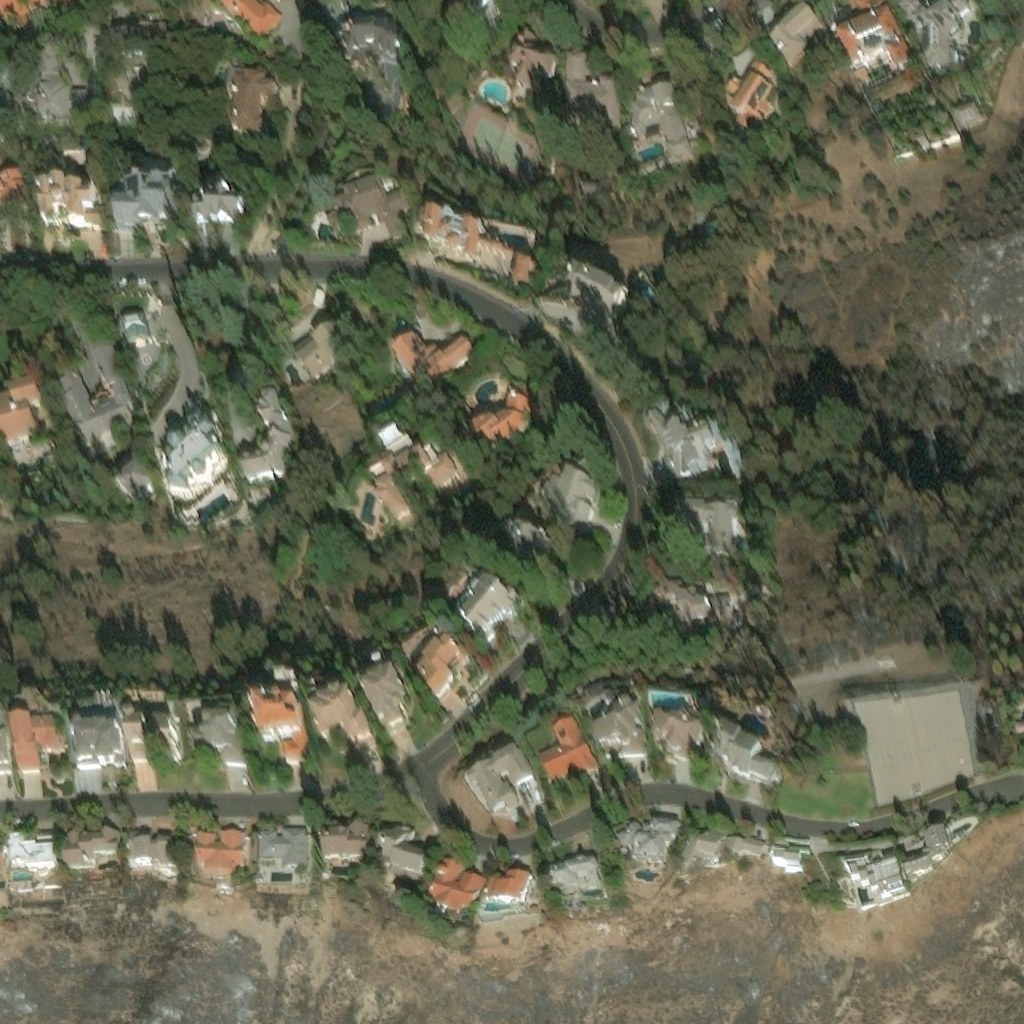0 no-damage: (59, 332, 138, 449), (0, 43, 102, 131), (372, 442, 461, 527), (833, 0, 914, 81), (325, 178, 413, 244), (647, 408, 737, 472), (240, 397, 300, 485), (464, 739, 534, 813), (625, 82, 692, 158), (837, 850, 913, 917), (896, 0, 975, 64), (393, 332, 475, 393), (716, 48, 780, 122), (468, 380, 539, 443), (169, 412, 224, 493), (712, 719, 779, 781), (537, 713, 598, 780), (564, 50, 618, 124), (461, 578, 524, 641), (426, 851, 485, 917), (538, 463, 597, 527), (308, 691, 375, 747), (677, 492, 742, 549), (659, 573, 728, 626), (115, 180, 182, 233), (567, 268, 628, 326), (414, 635, 471, 696), (419, 208, 487, 258), (376, 818, 429, 882), (765, 0, 823, 58), (294, 320, 349, 381), (231, 76, 281, 142), (359, 668, 411, 731), (907, 825, 957, 890), (0, 381, 46, 449), (0, 0, 80, 39), (42, 183, 109, 229), (256, 698, 309, 756), (594, 695, 646, 754), (191, 704, 245, 759), (193, 824, 247, 878), (545, 854, 609, 899), (508, 34, 558, 91), (222, 0, 285, 44), (342, 25, 408, 67), (14, 719, 65, 773), (614, 815, 679, 857), (115, 19, 173, 63), (258, 820, 310, 868), (66, 828, 122, 872), (320, 818, 369, 865), (653, 711, 704, 756), (127, 715, 175, 762), (508, 526, 555, 573), (75, 724, 126, 767), (118, 455, 159, 499), (128, 827, 174, 865), (10, 834, 58, 870), (483, 870, 532, 905), (0, 171, 35, 213), (208, 198, 254, 228), (119, 313, 153, 349), (693, 834, 725, 868), (772, 843, 809, 869), (473, 0, 503, 29), (512, 254, 539, 283), (740, 838, 770, 861), (0, 717, 11, 766), (111, 105, 140, 123), (849, 0, 887, 8), (579, 175, 601, 188), (0, 843, 8, 878), (36, 834, 57, 847), (1013, 716, 1023, 732), (276, 0, 304, 3)
4 un-classified: (677, 346, 692, 353)
